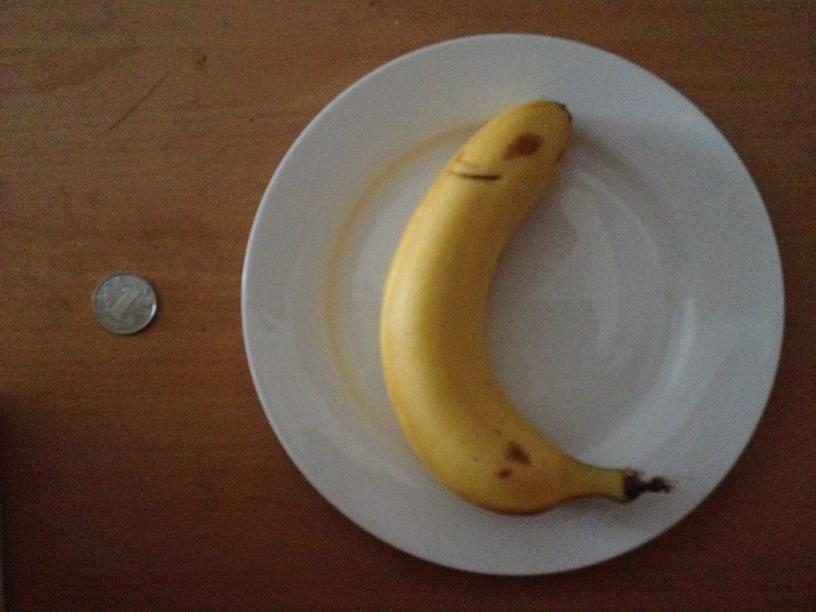banana: (380, 95, 615, 513)
coin: (89, 272, 157, 335)
